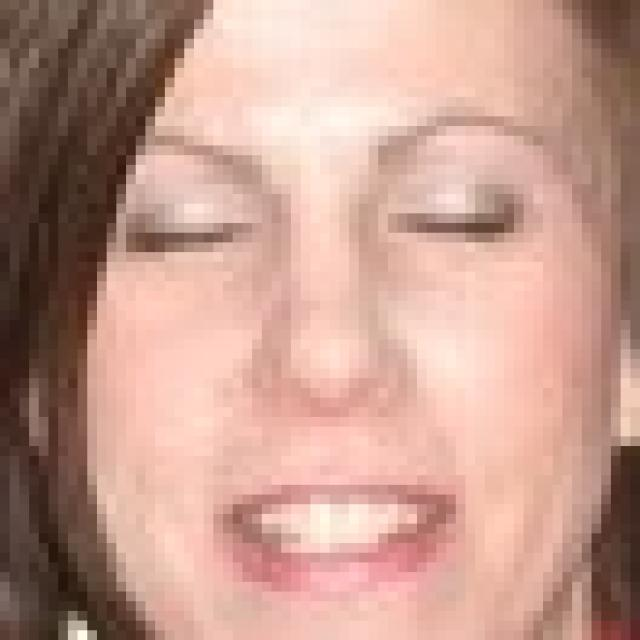Eyeclosed: (132, 206, 255, 268), (400, 192, 516, 249)
